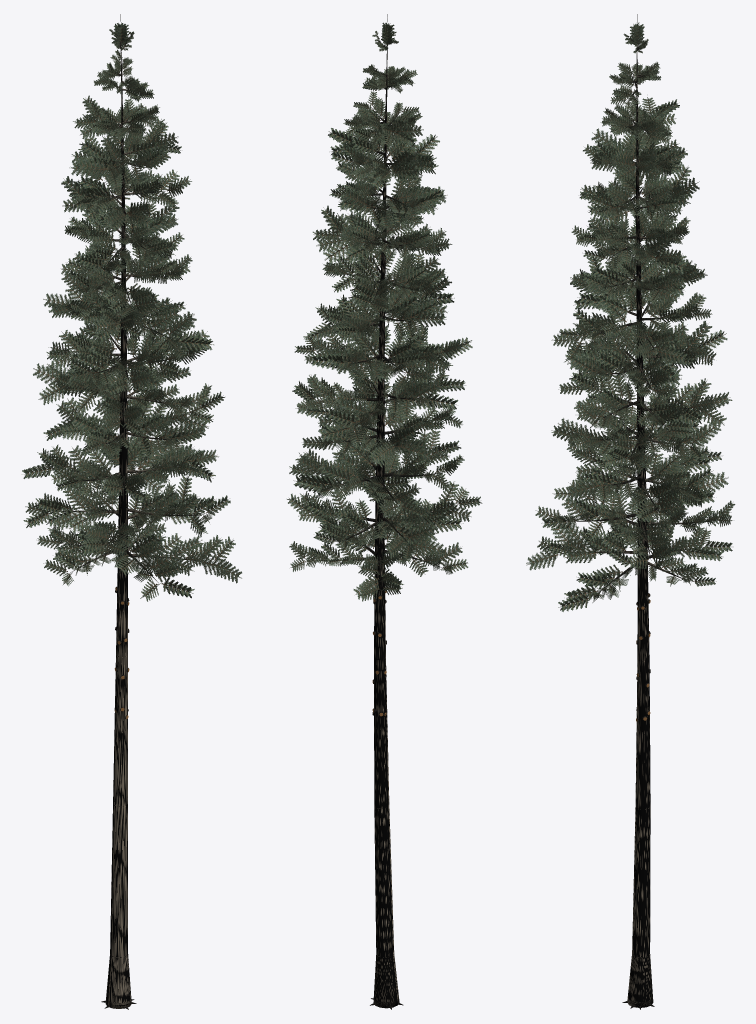
Rendered from Sitka_Mature_02_HighPruned_Recent_LOD0.fbx.
3 renders of one model, left to right at view 1: azimuth 30°, elevation 25°; view 2: azimuth 150°, elevation 25°; view 3: azimuth 270°, elevation 25°, orthographic.
Parts seen in each view (by area): view 1: Sitka_Mature_02_HighPruned_Recent_LOD0; view 2: Sitka_Mature_02_HighPruned_Recent_LOD0; view 3: Sitka_Mature_02_HighPruned_Recent_LOD0.
Boxes of the visible parts, x1,y1,x2,y2 form: Sitka_Mature_02_HighPruned_Recent_LOD0: (22, 14, 241, 1009); Sitka_Mature_02_HighPruned_Recent_LOD0: (287, 14, 482, 1009); Sitka_Mature_02_HighPruned_Recent_LOD0: (526, 14, 735, 1009).
Size of the model in its own units: 505 by 2600 by 536.
Materials: 3 (3 with a texture image).
